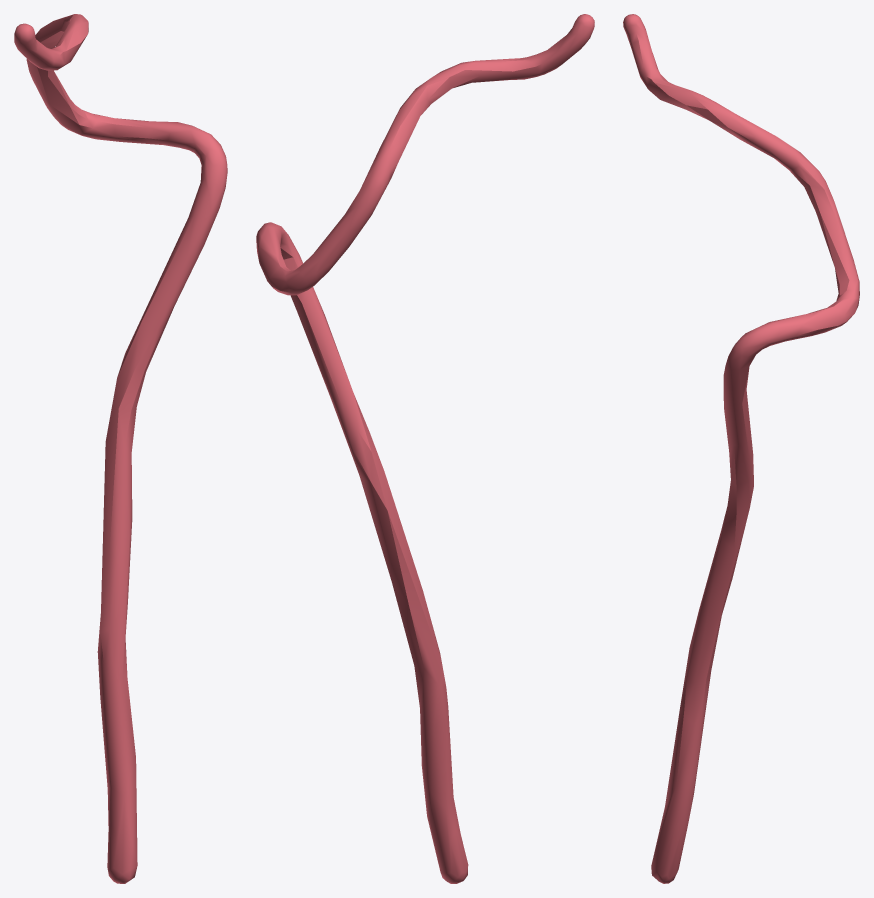
The model's file is fma76262_fj1725m.glb.
3 views of the same model, side by side, from view 1: azimuth 30°, elevation 25°; view 2: azimuth 150°, elevation 25°; view 3: azimuth 270°, elevation 25° (orthographic). The views are drawn at different scales.
Visible parts, largest first — view 1: FMA76262_FJ1725M; view 2: FMA76262_FJ1725M; view 3: FMA76262_FJ1725M.
Part boxes in pixels (x1,y1,x2,y2): FMA76262_FJ1725M: [14, 14, 227, 883]; FMA76262_FJ1725M: [256, 14, 594, 883]; FMA76262_FJ1725M: [623, 14, 859, 883].
Size of the model in its own units: 0.034 by 0.1076 by 0.0283.
